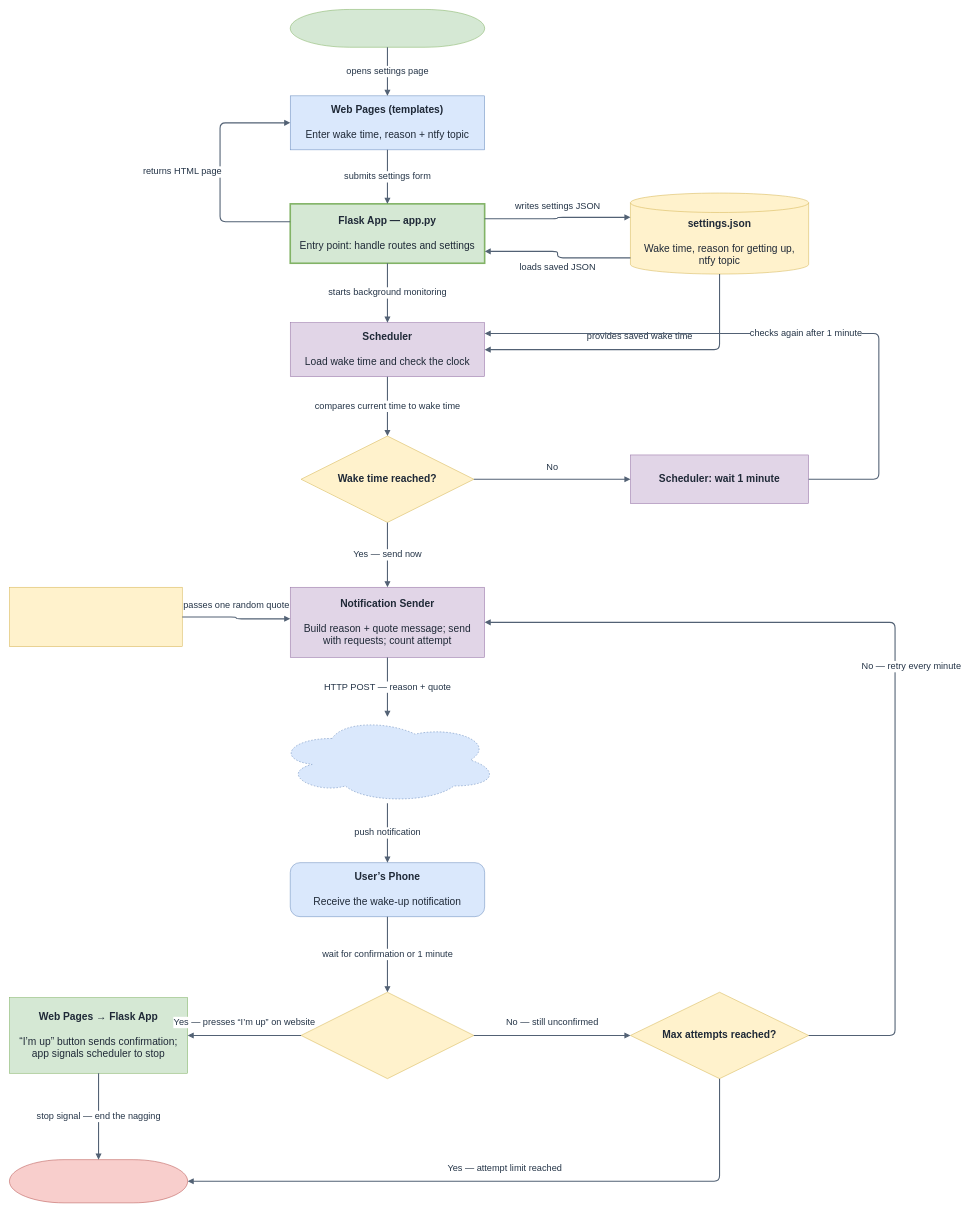
This 970x1212 diagram has some shape labels left out. The shapes that lost their labels are listed below. From the top down, each one's centre as x and y in pixels, then its label:
(x=387, y=28): START — User opens the website
(x=95, y=617): Quotes Motivational quote list + random picker
(x=387, y=759): ntfy.sh — external API Push notification service
(x=387, y=1035): User confirmed “I’m up”?
(x=98, y=1181): END — Stop wake-up reminders
